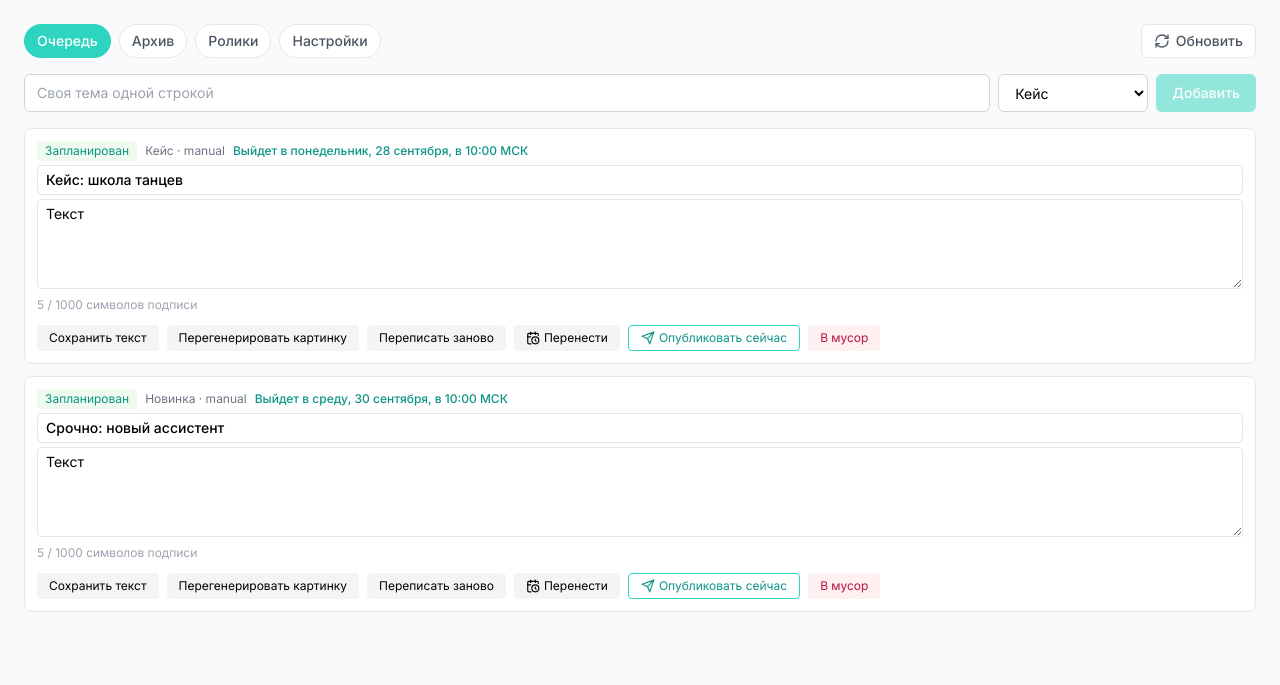
перенос слота › обмен двух занятых слотов через свободный: повторный перенос идёт со свежей версией
This screenshot has width=1280, height=685.
What coordinates should you click on to do the following:
click the 1st button "Перенести"
I would click on:
 (567, 338)
Its box is [514, 325, 620, 351].
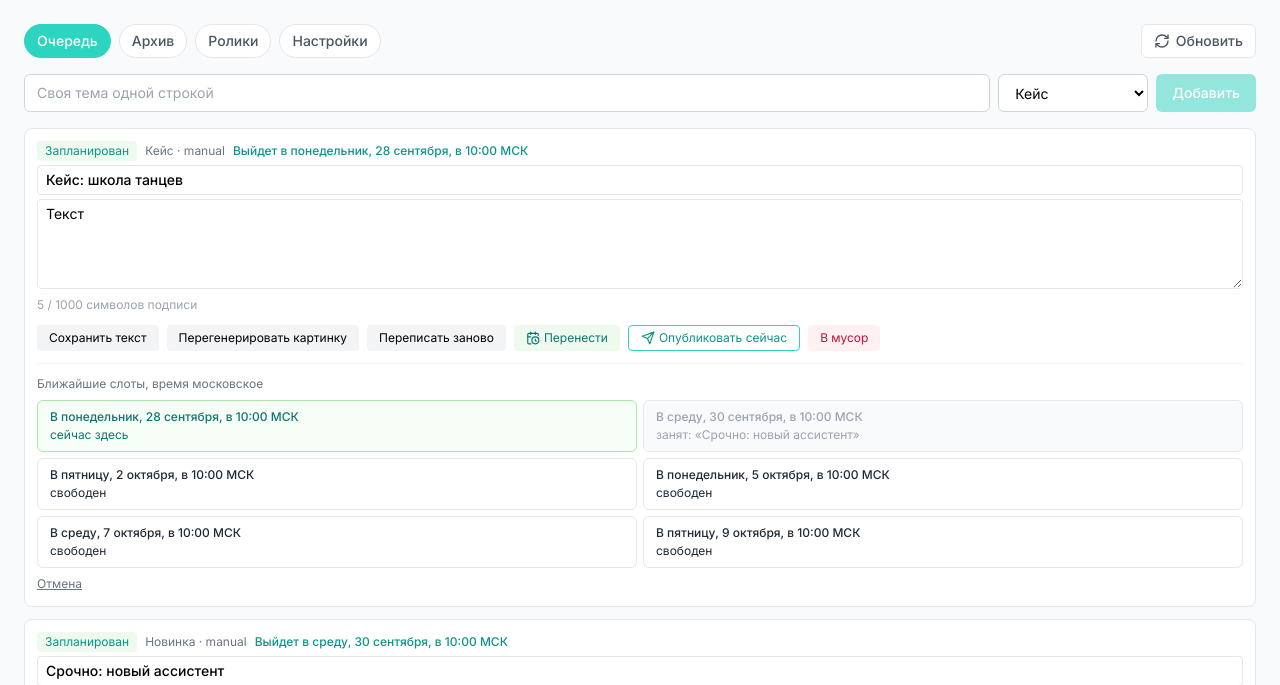
What coordinates should you click on to do the following:
click the button "В пятницу, 2 октября, в 10:00 МСК свободен"
I would click on:
 (152, 474)
Its box is [37, 458, 637, 510].
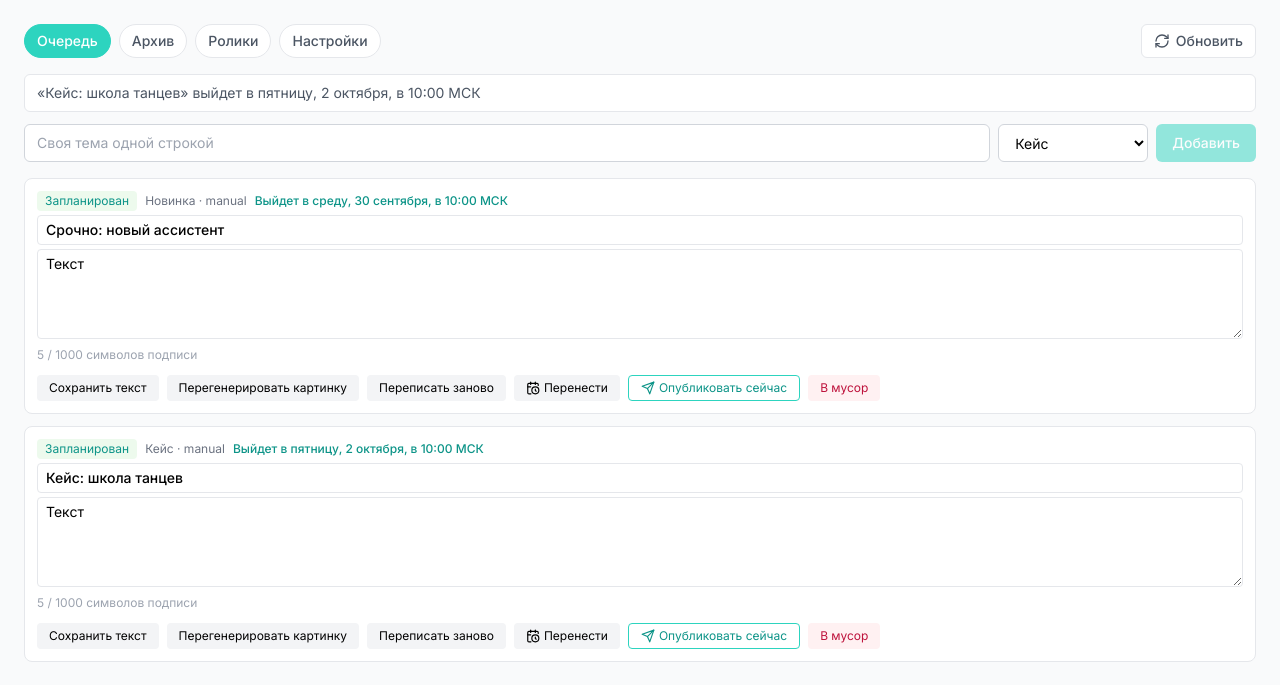
What coordinates should you click on to do the following:
click the button "Перенести" below "Выйдет в среду, 30 сентября, в 10:00 МСК"
I would click on:
 (567, 388)
Its box is [514, 375, 620, 401].
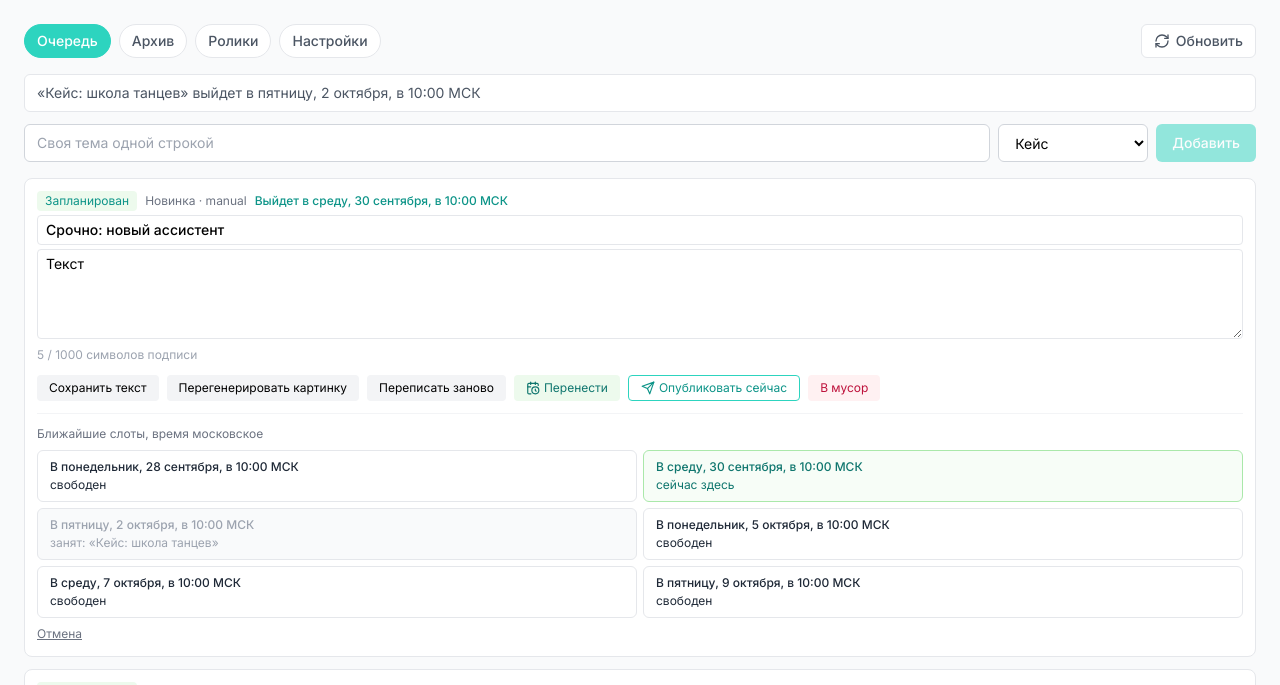
What coordinates should you click on to do the following:
click the button "В понедельник, 28 сентября, в 10:00 МСК свободен"
I would click on:
 (174, 466)
Its box is [37, 450, 637, 502].
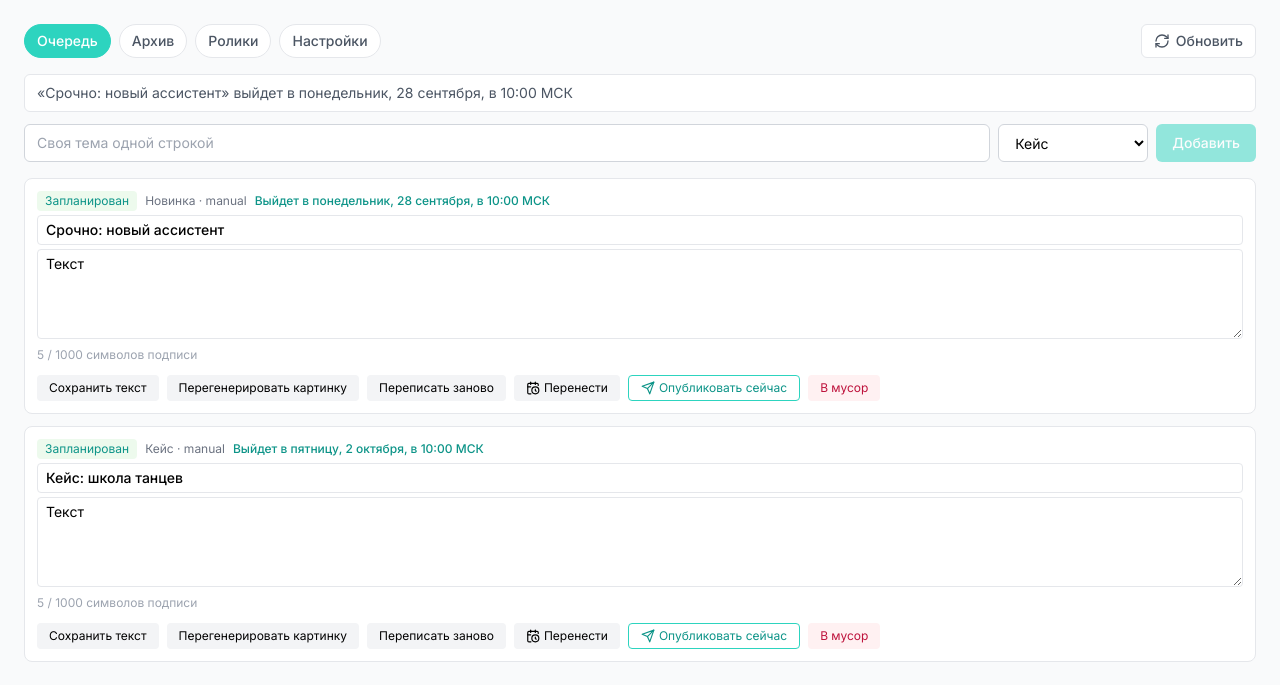
What coordinates should you click on to do the following:
click the button "Перенести" below "Выйдет в пятницу, 2 октября, в 10:00 МСК"
I would click on:
 (567, 636)
Its box is [514, 623, 620, 649].
(page scrolled)
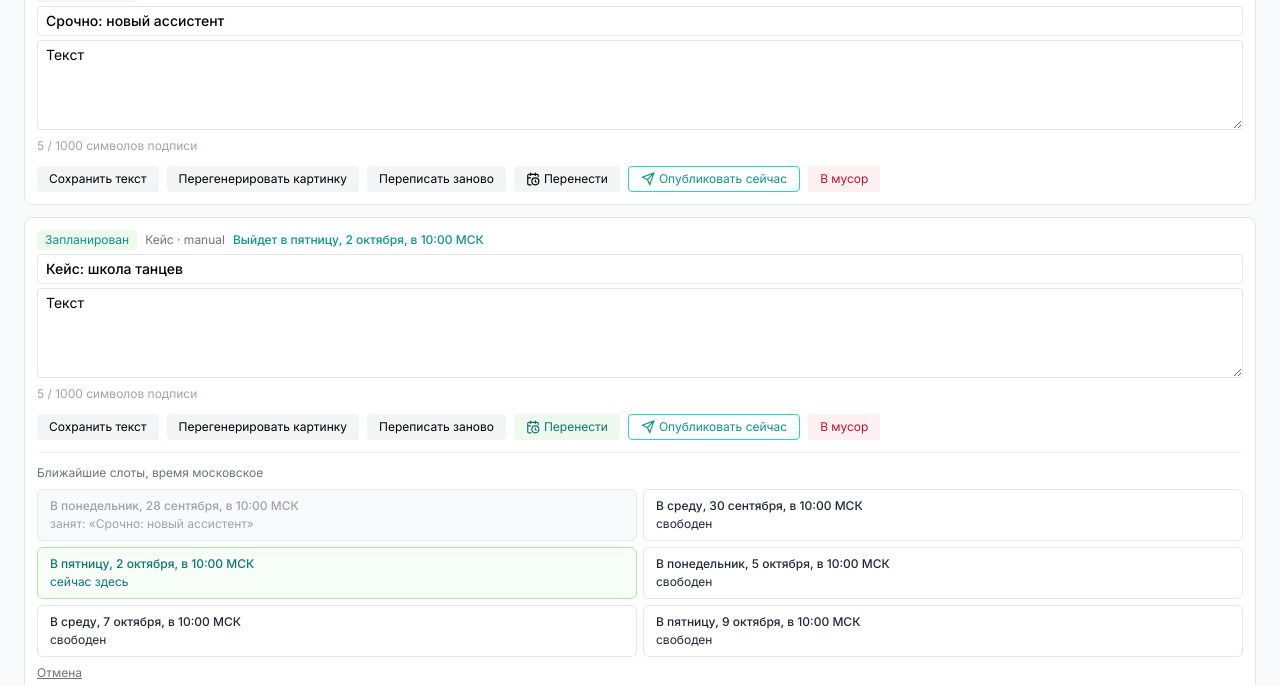
What coordinates should you click on to do the following:
click the button "В среду, 30 сентября, в 10:00 МСК свободен"
I would click on:
 (759, 506)
Its box is [643, 489, 1243, 541].
(page scrolled)
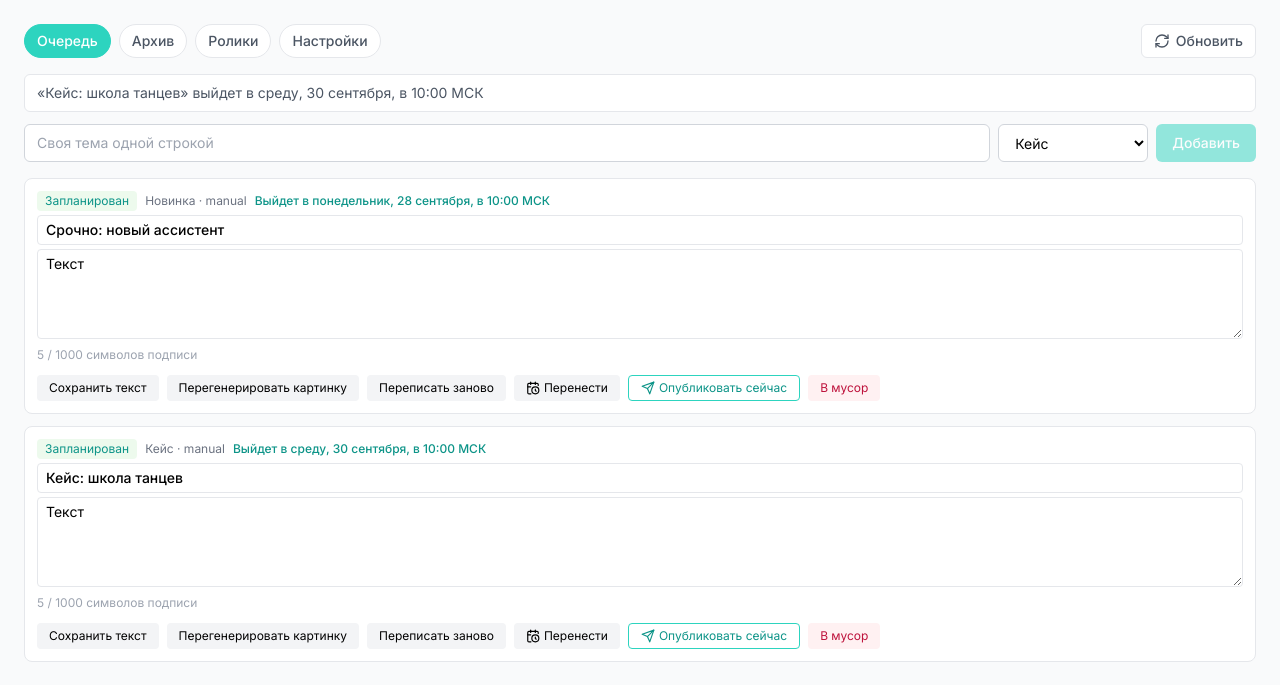
Now the text "Выйдет в понедельник, 28 сентября, в 10:00 МСК" is shown, box [255, 193, 550, 209]
Now the text "Выйдет в среду, 30 сентября, в 10:00 МСК" is shown, box [233, 441, 486, 457]
